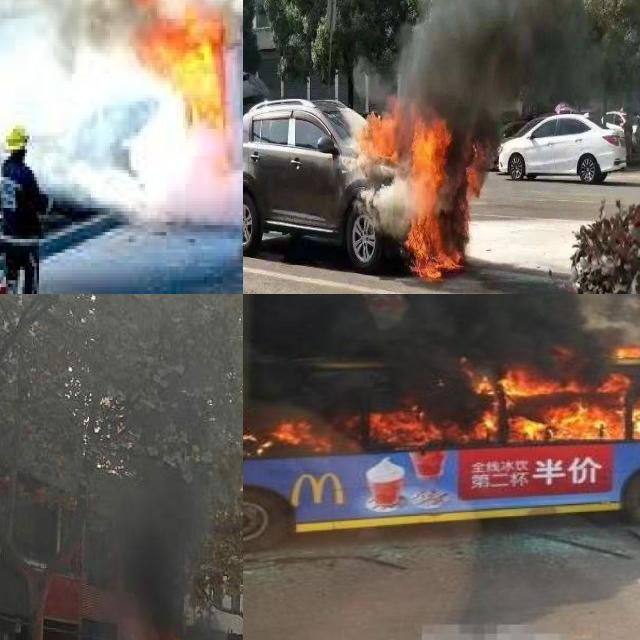fire: (243, 343, 640, 447), (67, 0, 232, 173), (364, 93, 488, 291)
smoke: (0, 0, 243, 218), (243, 294, 640, 425), (401, 0, 601, 134), (110, 436, 221, 634), (373, 180, 415, 238)
